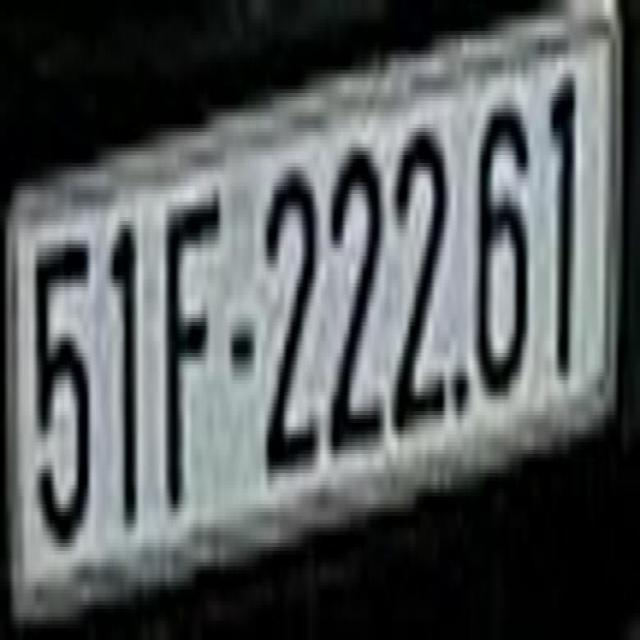1: (110, 221, 148, 582), (550, 58, 576, 400)
2: (390, 128, 449, 442), (261, 178, 320, 485), (330, 136, 387, 450)
5: (30, 241, 92, 574)
6: (472, 74, 532, 411)
F: (160, 182, 223, 528)
